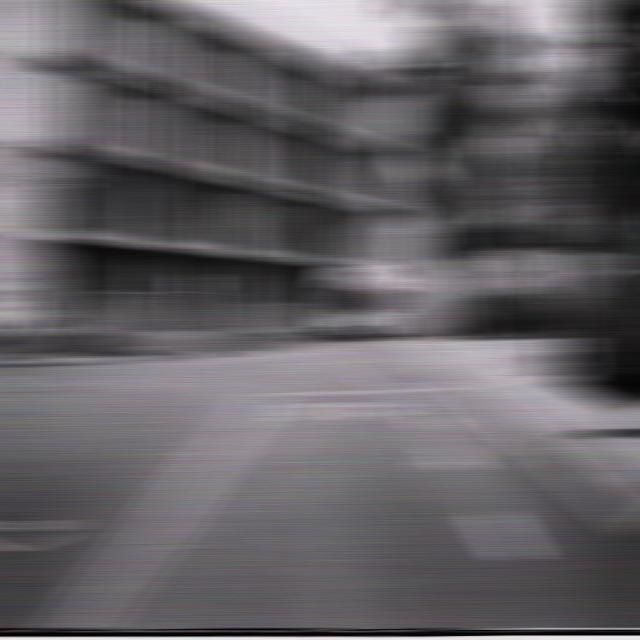stop: (530, 183, 583, 244)
